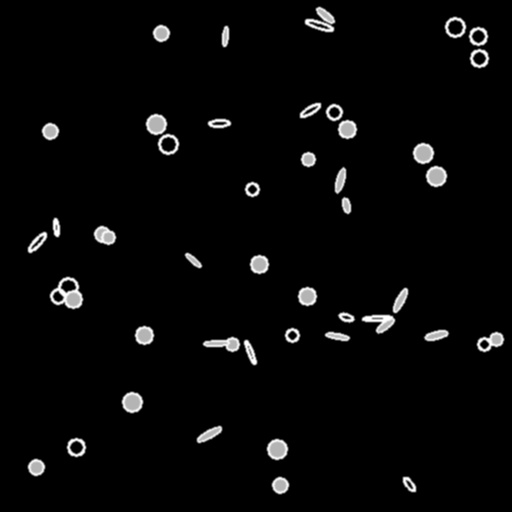pseudomonas: (195, 425, 223, 443), (26, 231, 48, 253), (305, 18, 333, 32), (392, 288, 408, 312), (243, 339, 257, 365), (315, 6, 335, 24), (375, 316, 395, 334), (299, 102, 321, 118), (334, 168, 346, 192), (184, 252, 202, 268), (401, 476, 417, 492), (425, 330, 447, 340), (325, 332, 349, 340), (363, 315, 391, 321), (338, 312, 354, 322), (341, 197, 351, 213), (204, 340, 228, 346), (208, 120, 230, 126), (53, 218, 59, 236), (222, 27, 228, 45)
synechocystis: (59, 278, 77, 296), (268, 440, 286, 458), (159, 135, 177, 153), (414, 144, 432, 162), (123, 393, 141, 411), (427, 167, 445, 185), (147, 115, 165, 133), (446, 18, 464, 36), (136, 327, 152, 343), (68, 439, 84, 455), (470, 28, 486, 44), (65, 291, 81, 307), (471, 50, 487, 66), (339, 121, 355, 137), (251, 256, 267, 272), (299, 288, 315, 304), (43, 124, 57, 138), (51, 289, 65, 303), (273, 478, 287, 492), (154, 26, 168, 40), (95, 227, 109, 241), (327, 105, 341, 119), (29, 460, 43, 474), (286, 329, 298, 341), (226, 338, 238, 350), (102, 231, 114, 243), (478, 338, 490, 350), (246, 183, 258, 195), (490, 333, 502, 345), (302, 153, 314, 165)
